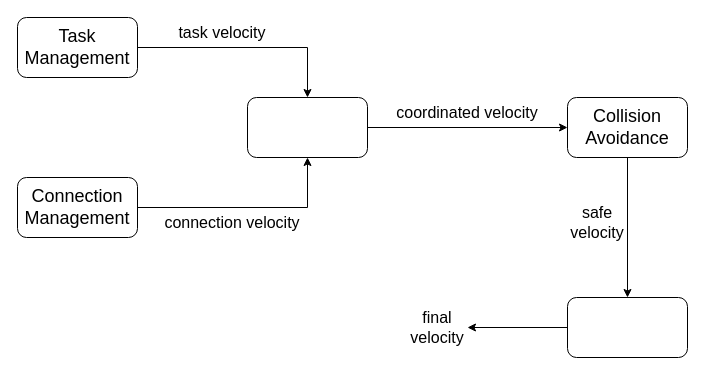
Some shapes in this 705 by 375 pixel diagram are drawn without their labels. Each missing label, with the box of its shape:
Velocity Coordination: (246, 96, 368, 158)
Velocity Setter: (566, 296, 688, 358)
